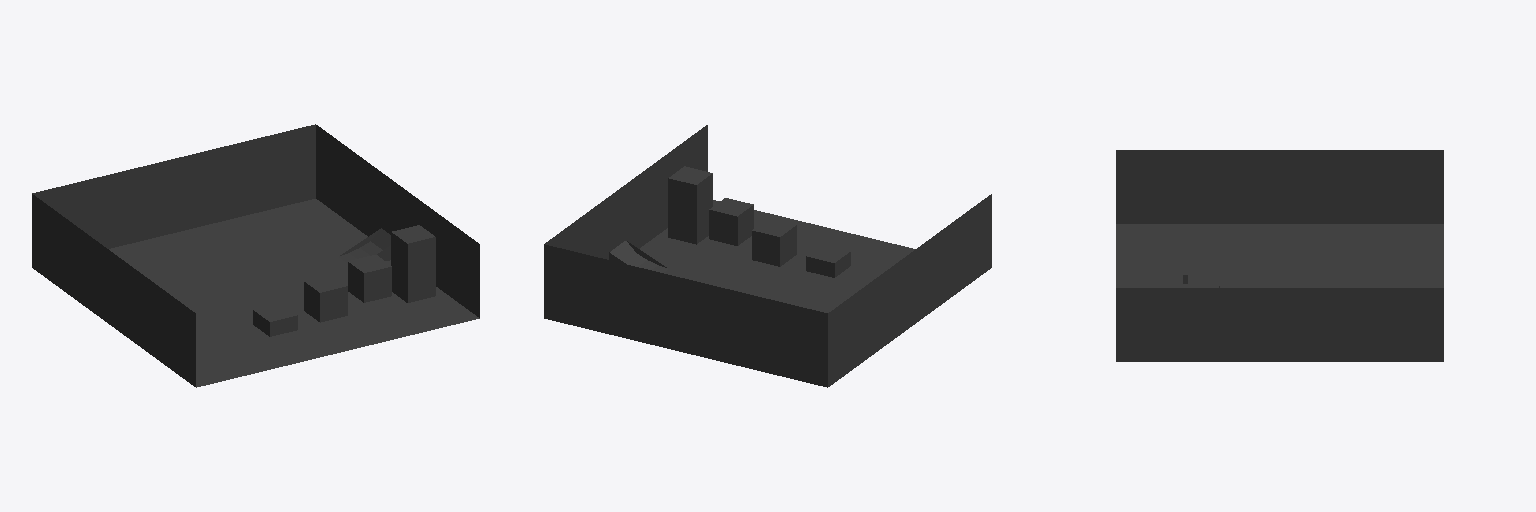
File: testmap.obj
3 views of the same model, side by side, from view 1: azimuth 30°, elevation 25°; view 2: azimuth 150°, elevation 25°; view 3: azimuth 270°, elevation 25° (orthographic).
Visible parts, largest first — view 1: Plane_Plane.001; view 2: Plane_Plane.001; view 3: Plane_Plane.001.
Part boxes in pixels (bbox=[...]): Plane_Plane.001: bbox=[32, 124, 479, 387]; Plane_Plane.001: bbox=[544, 125, 991, 387]; Plane_Plane.001: bbox=[1116, 150, 1443, 361].
Size of the model in its own units: 20 by 5 by 20.